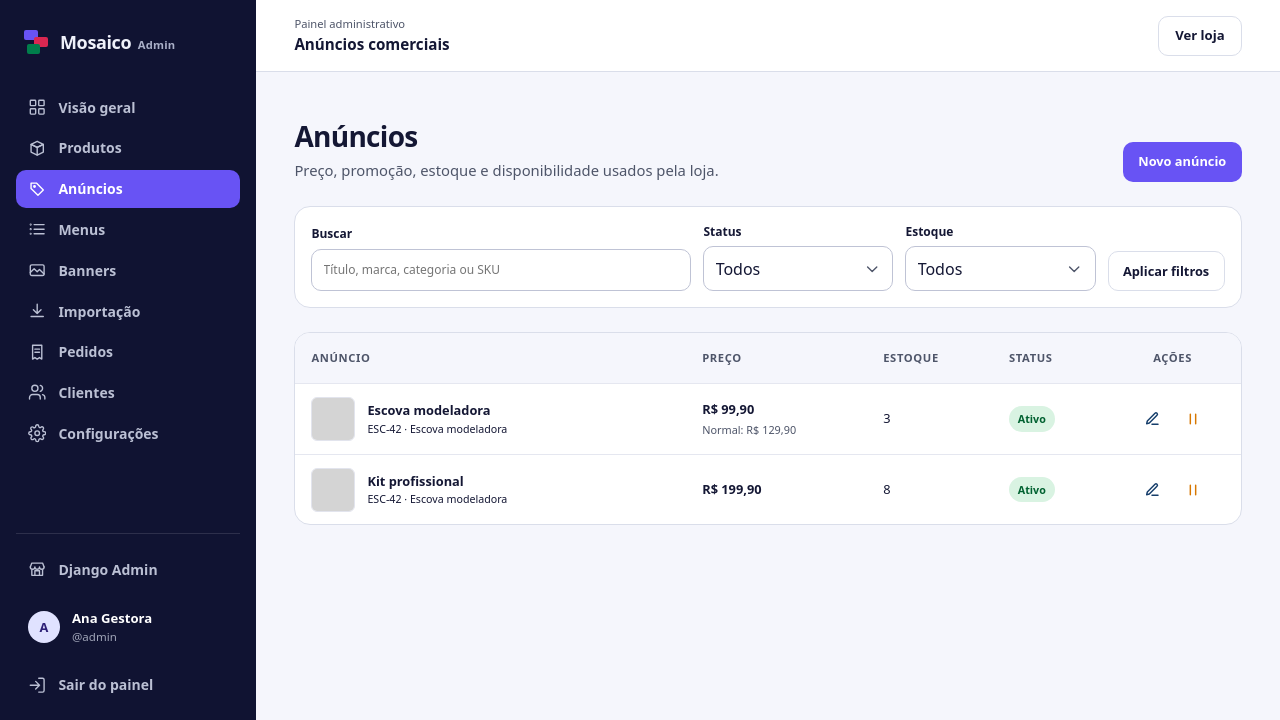
Test: Mosaico Admin › asks for confirmation in a modal before deactivating a listing
The width and height of the screenshot is (1280, 720).
Click the button named "desativar escova modeladora" at (1193, 419), box [1175,401,1211,437]
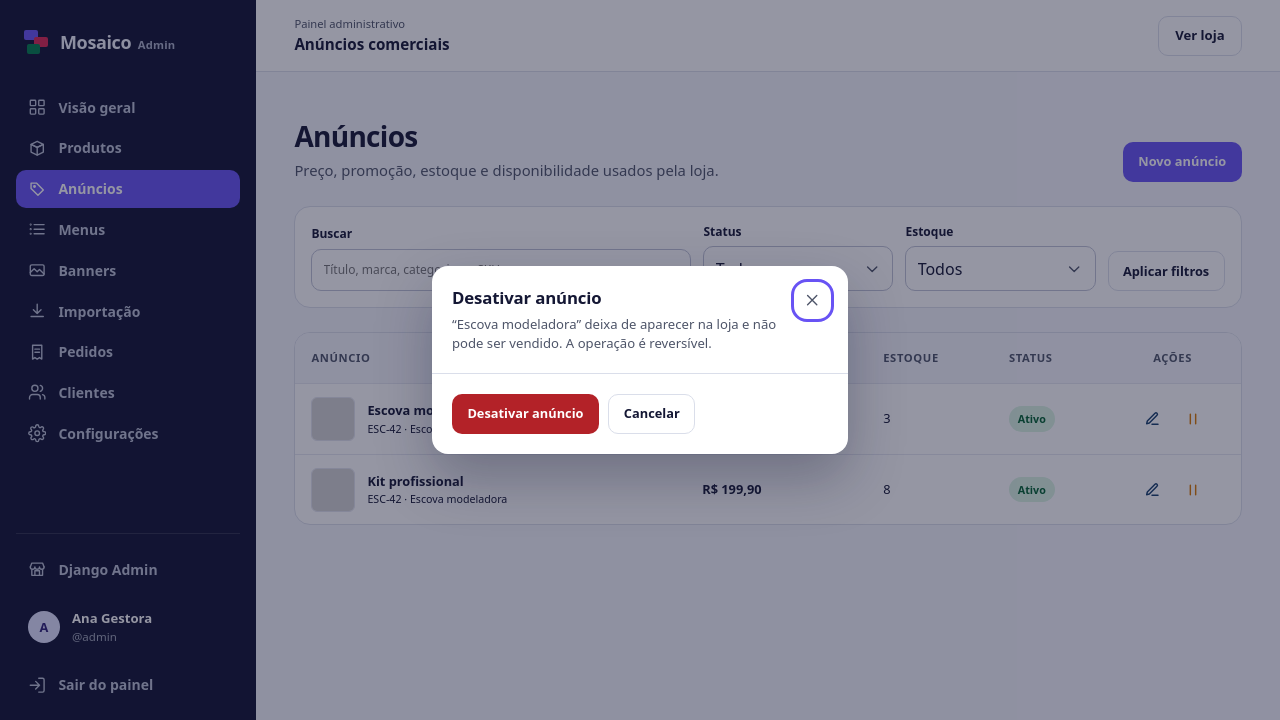
Note: Closing must not have sent anything.
Click the button "Cancelar" at (652, 414), box [608,394,695,434]
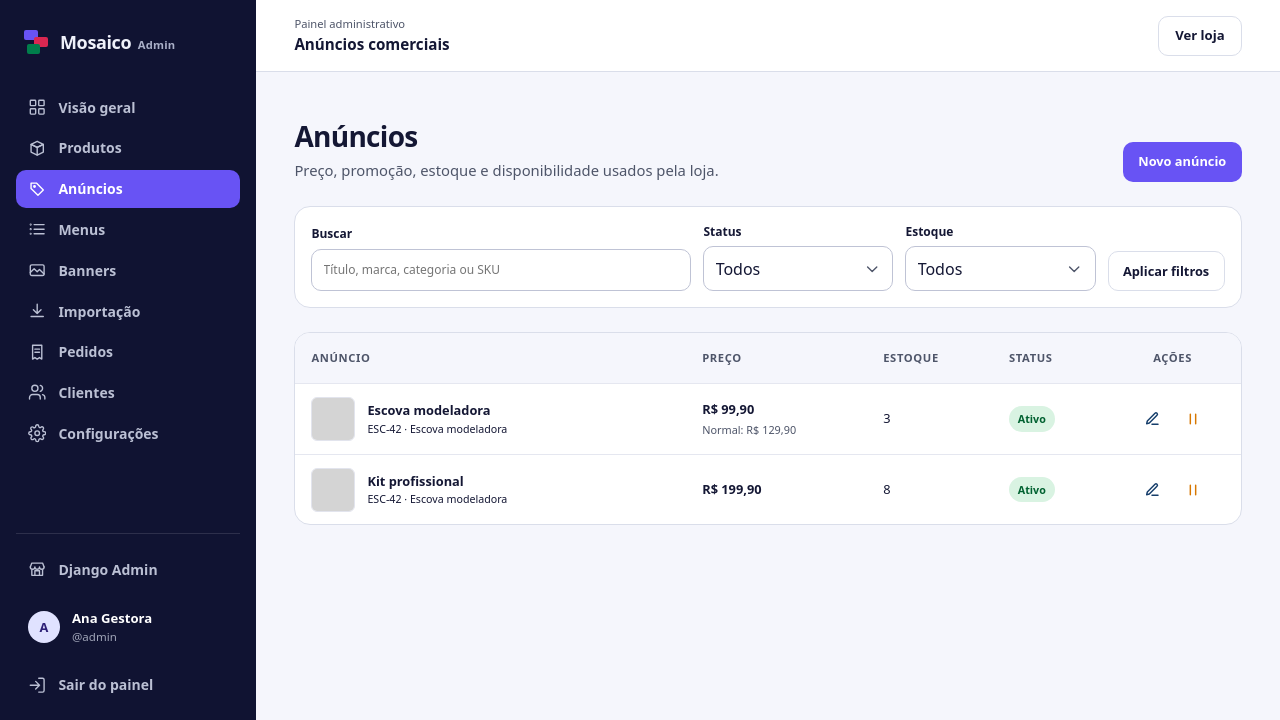
Result: the dialog is gone
Click the button named "desativar escova modeladora" at (1193, 419), box [1175,401,1211,437]
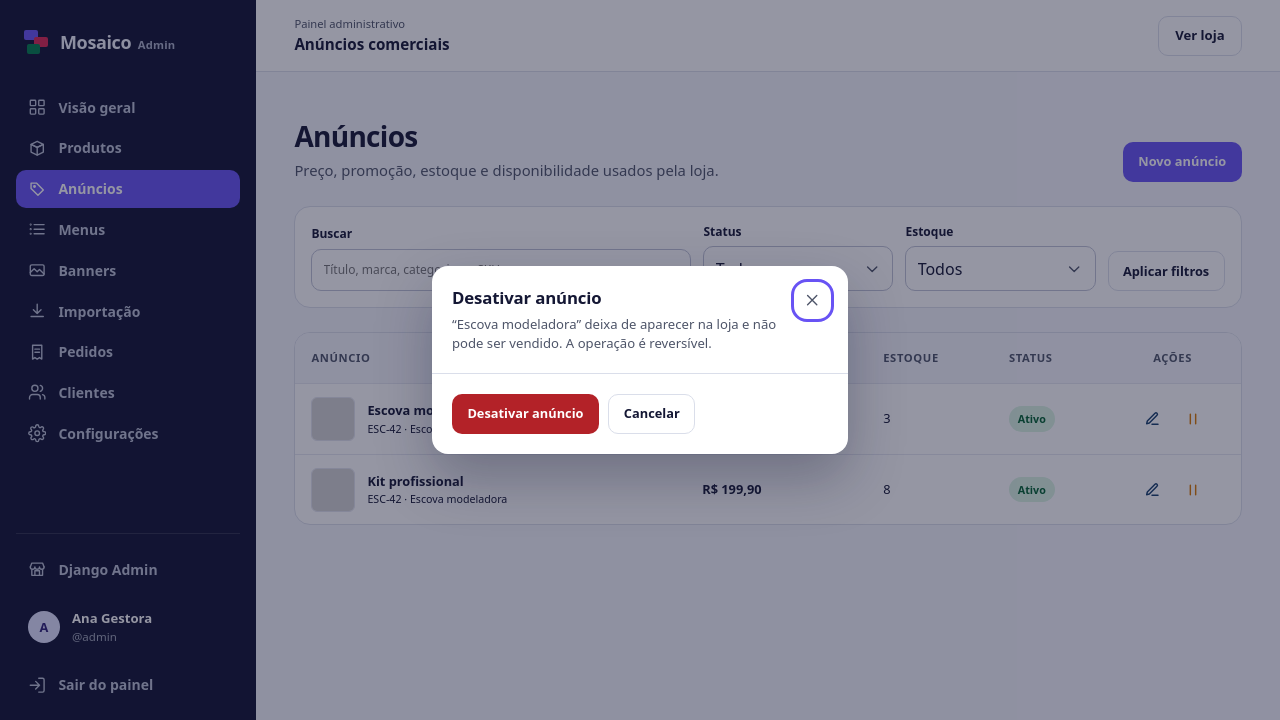
Click the button "Desativar anúncio" at (525, 414), box [452,394,599,434]
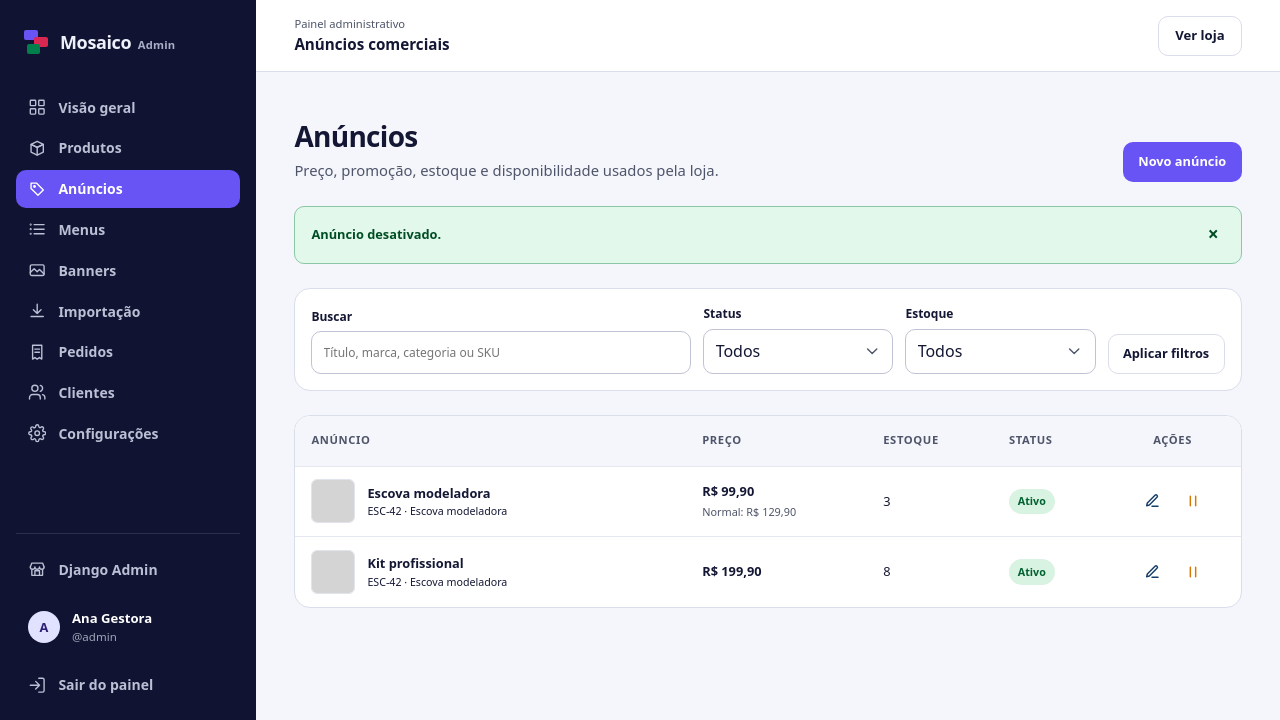
Result: the text "Anúncio desativado." is shown at [311,225,441,244]
